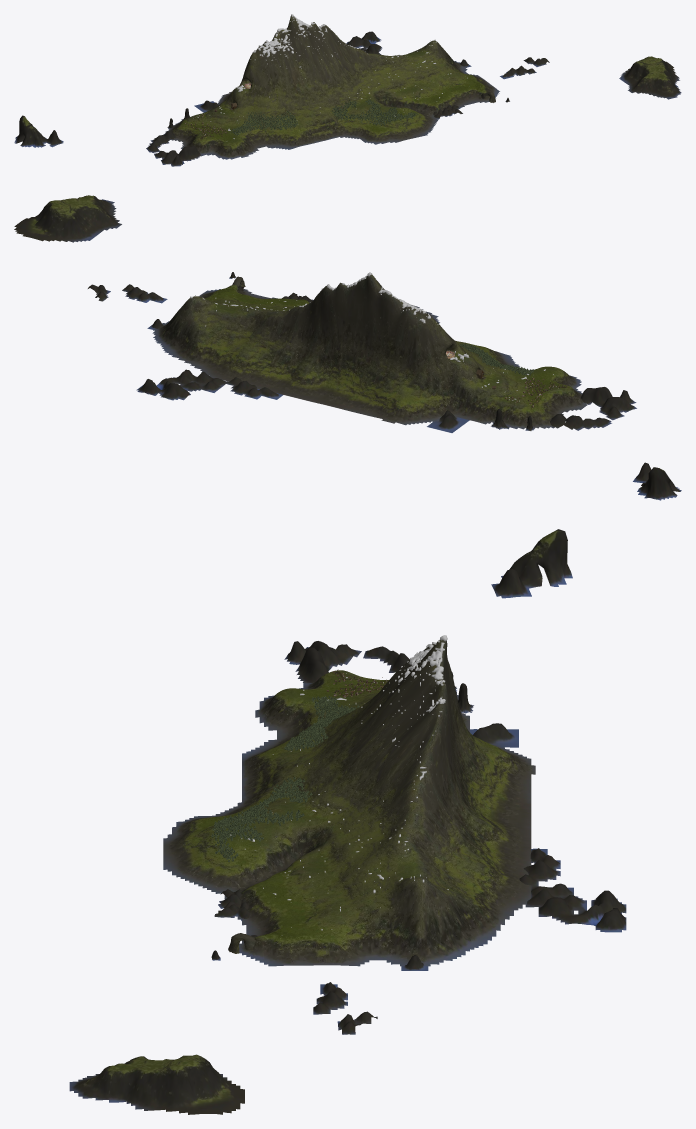
Rendered from island_1.glb.
3 renders of one model, top to bottom at view 1: azimuth 30°, elevation 25°; view 2: azimuth 150°, elevation 25°; view 3: azimuth 270°, elevation 25°, orthographic. The views are drawn at different scales.
Parts seen in each view (by area): view 1: island, trees.001, small-island, Snow, rock-docks, rock-test-drive, rock-maze, rock-cluster-01; view 2: island, small-island, rock-maze, rock-docks, rock-test-drive, Snow, rock-cluster-01, trees.001, rock-1; view 3: island, small-island, rock-maze, trees.001, rock-test-drive, rock-docks, Snow, rock-cluster-01.
Boxes of the visible parts, x1,y1,x2,y2 form: island: (164,15,499,159); trees.001: (230,99,417,135); small-island: (619,56,681,99); Snow: (193,14,467,141); rock-docks: (146,131,201,166); rock-test-drive: (14,115,63,147); rock-maze: (346,31,382,54); rock-cluster-01: (500,57,549,79); island: (152,274,587,429); small-island: (14,195,121,242); rock-maze: (136,369,282,400); rock-docks: (550,387,636,430); rock-test-drive: (633,462,681,500); Snow: (190,272,558,405); rock-cluster-01: (88,284,167,303); trees.001: (459,343,534,375); rock-1: (427,410,469,432); island: (163,639,535,966); small-island: (69,1054,244,1114); rock-maze: (519,848,626,932); trees.001: (211,695,359,861); rock-test-drive: (491,529,572,598); rock-docks: (284,641,409,683); Snow: (230,635,448,935); rock-cluster-01: (313,982,377,1034).
Bounding box in the file's own units: 37.11 × 5.51 × 15.68.
14 materials, 11 textured.
